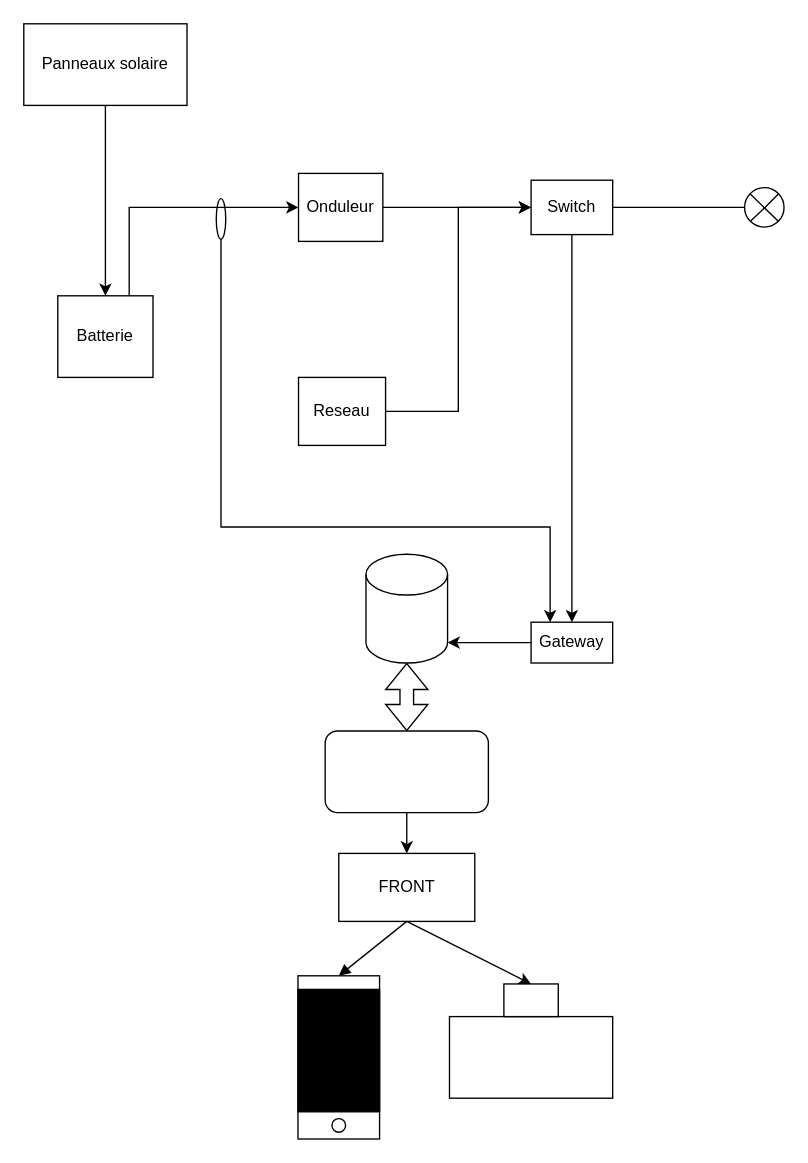
The diagram is 808 pixels wide and 1163 high, and some of its shapes have lost their labels. Here are the shapes that lost their labels. From the top down, the centre of each, then its label:
At pixel 406 608: "DB".
At pixel 406 771: "SEVEUR Back API REST".
At pixel 530 1000: "RPI".
At pixel 530 1056: "Télévision".
